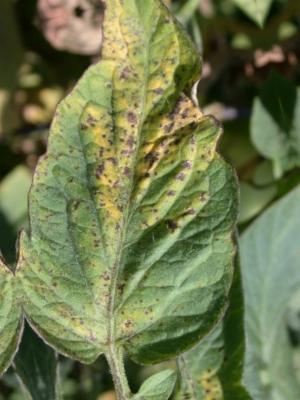Tomato leaf bacterial spot: (0, 0, 277, 400)
